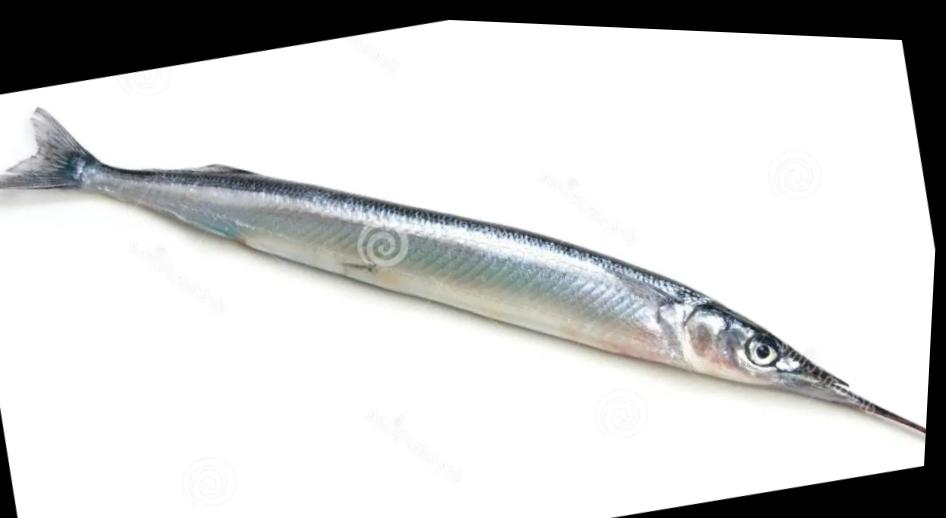fish: (0, 106, 930, 434)
